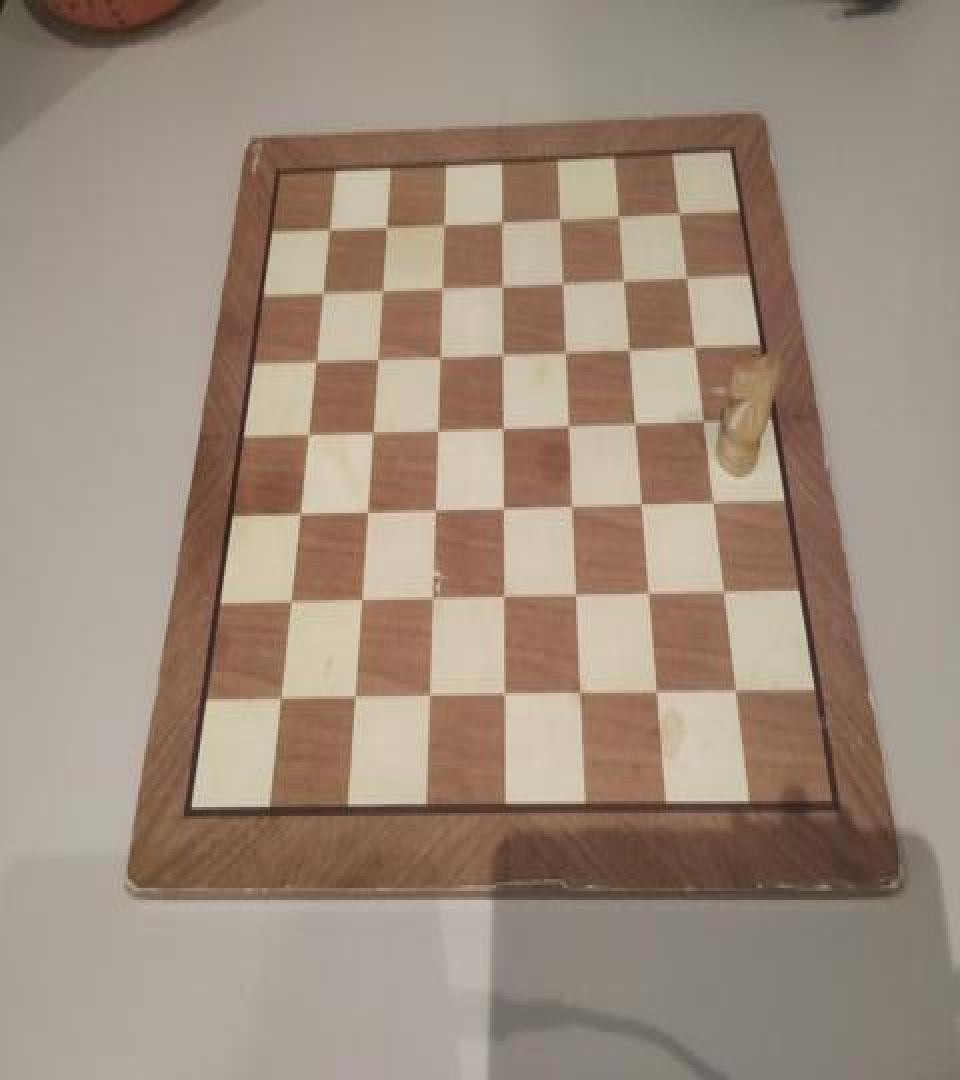xcorner: (289, 499, 309, 530), (667, 199, 687, 230), (269, 686, 289, 716), (345, 684, 365, 714), (496, 681, 516, 711), (573, 680, 593, 710), (650, 680, 670, 710), (728, 678, 748, 708), (279, 588, 299, 618), (423, 585, 443, 615), (495, 584, 515, 614), (642, 579, 662, 609), (716, 578, 736, 608), (357, 496, 377, 526), (425, 495, 445, 525), (494, 494, 514, 524), (564, 492, 584, 522), (634, 489, 654, 519), (704, 488, 724, 518), (297, 418, 317, 448), (362, 416, 382, 446), (428, 414, 448, 444), (493, 411, 513, 441), (560, 410, 580, 440), (627, 408, 647, 438), (694, 405, 714, 435), (304, 344, 324, 374), (367, 342, 387, 372), (430, 339, 450, 369), (493, 338, 513, 368), (556, 334, 576, 364), (620, 333, 640, 363), (684, 330, 704, 360), (311, 276, 331, 306), (371, 273, 391, 303), (431, 272, 451, 302), (492, 268, 512, 298), (553, 267, 573, 297), (614, 264, 634, 294), (676, 262, 696, 292), (318, 213, 338, 243), (375, 210, 395, 240), (433, 208, 453, 238), (491, 206, 511, 236), (550, 204, 570, 234), (608, 201, 628, 231), (420, 683, 440, 712), (351, 587, 371, 616), (568, 581, 588, 610)
